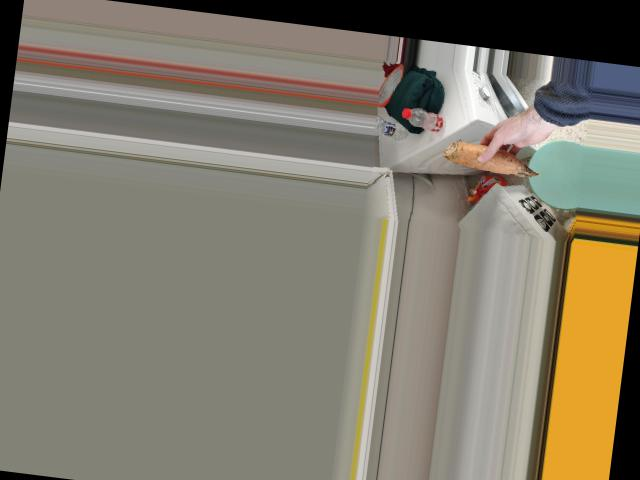sweet_potato: (438, 142, 542, 176)
